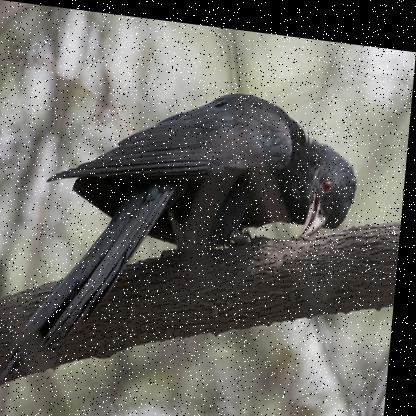Burung: (7, 67, 365, 409)
